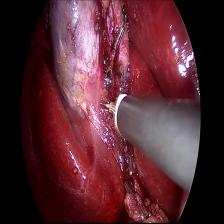Hook: (97, 89, 133, 146)
